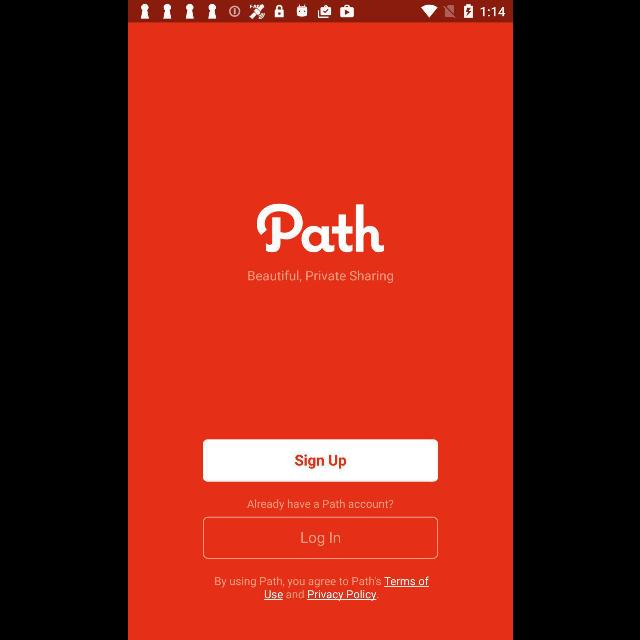image: (256, 202, 384, 254)
text: (214, 576, 428, 602), (245, 498, 392, 512), (247, 270, 393, 284)
textbutton: (202, 517, 438, 559), (202, 440, 438, 482)
uppertaskbar: (128, 1, 512, 23)
